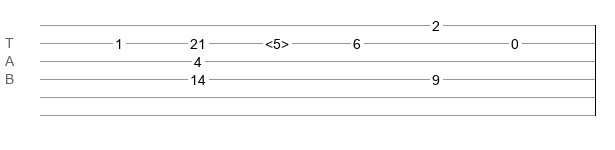0: (511, 36, 519, 46)
1: (115, 36, 123, 46)
14: (190, 72, 206, 82)
2: (432, 18, 440, 28)
21: (190, 36, 206, 46)
4: (194, 54, 202, 64)
6: (353, 36, 361, 46)
9: (432, 72, 440, 82)
harmonic: (265, 36, 289, 46)
